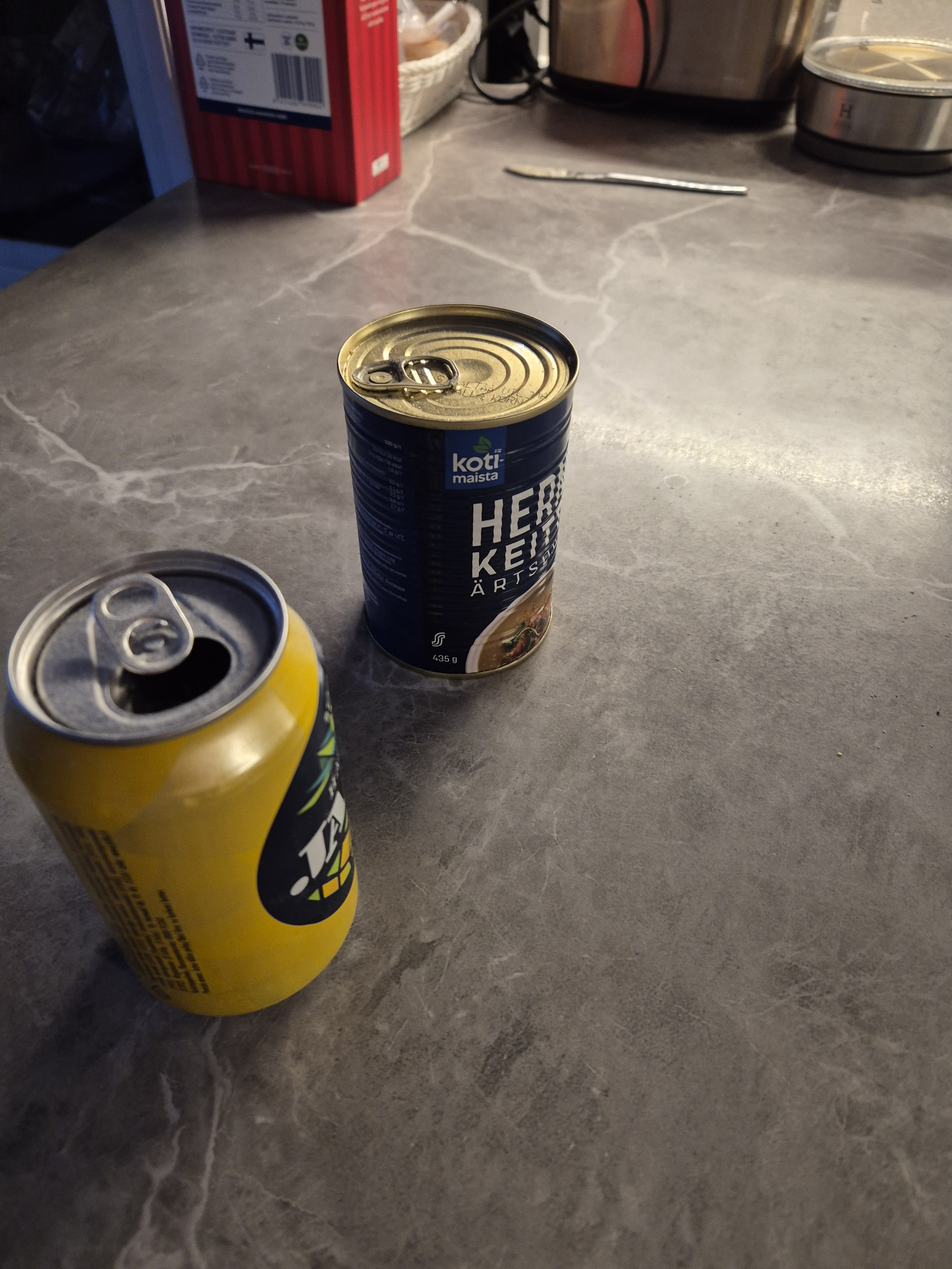Konservburk: (337, 301, 580, 680)
Pantburk: (3, 549, 362, 1021)
